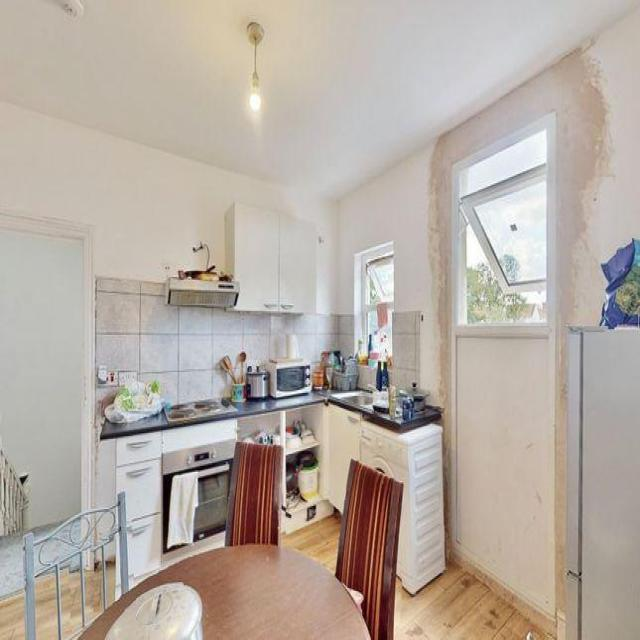Wall: (0, 7, 640, 605), (0, 0, 639, 196), (96, 280, 354, 402), (0, 229, 83, 526), (396, 563, 546, 639), (281, 512, 340, 573), (0, 533, 24, 638), (394, 311, 420, 386), (36, 574, 56, 638), (62, 570, 81, 637), (86, 566, 103, 620)
